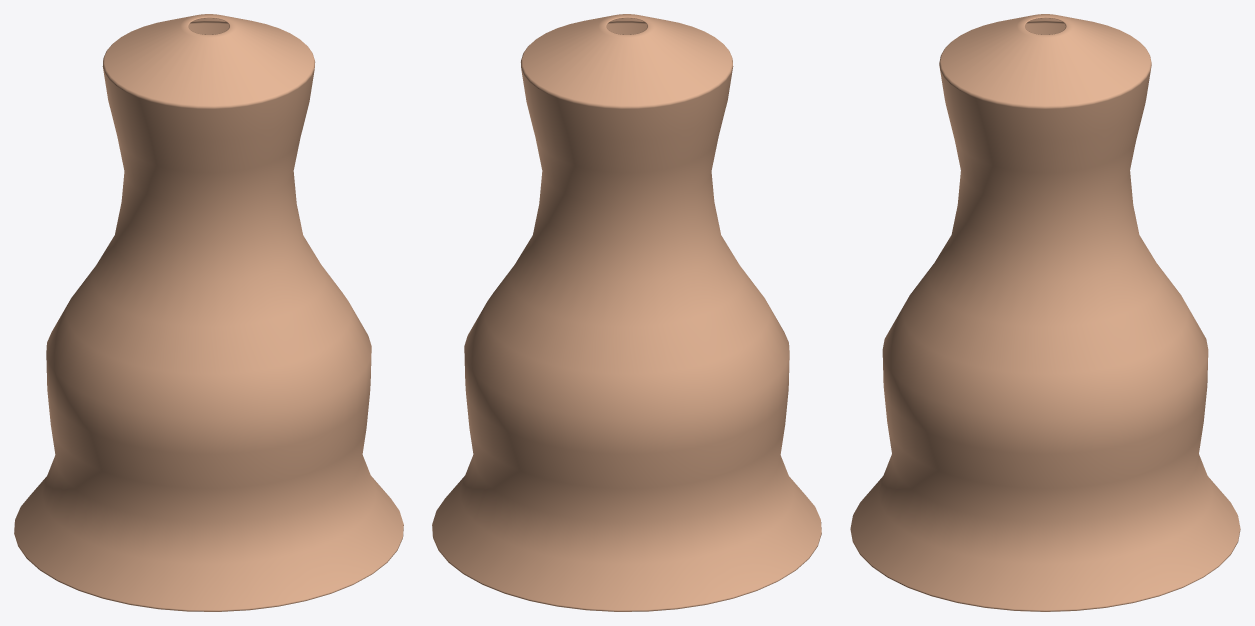
The model's file is case05_vase_carafe_verre_spatial_decomposed.glb.
The picture shows the model from 3 angles, left to right: view 1: azimuth 30°, elevation 25°; view 2: azimuth 150°, elevation 25°; view 3: azimuth 270°, elevation 25°; orthographic projection.
Visible parts, largest first — view 1: Corps_Vase_Ceramique; view 2: Corps_Vase_Ceramique; view 3: Corps_Vase_Ceramique.
Part boxes in pixels (<box>): Corps_Vase_Ceramique: <box>14,14,403,611</box>; Corps_Vase_Ceramique: <box>432,14,821,611</box>; Corps_Vase_Ceramique: <box>850,14,1240,611</box>.
Size of the model in its own units: 0.1639 by 0.25 by 0.1639.
